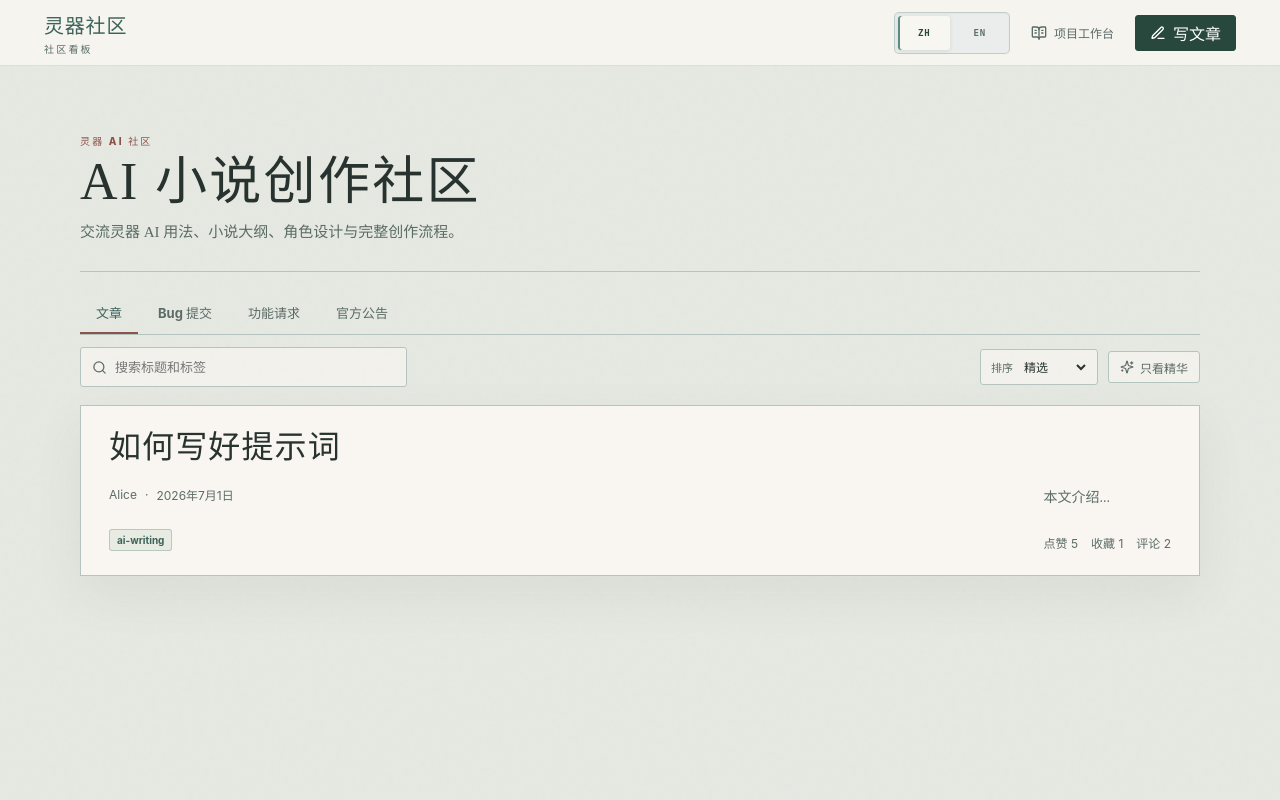
Test: CommunityPage › opens a login reminder when an anonymous user tries to write
Step 1. Click the button "写文章" → x=1186, y=32, box [1135, 14, 1236, 50]
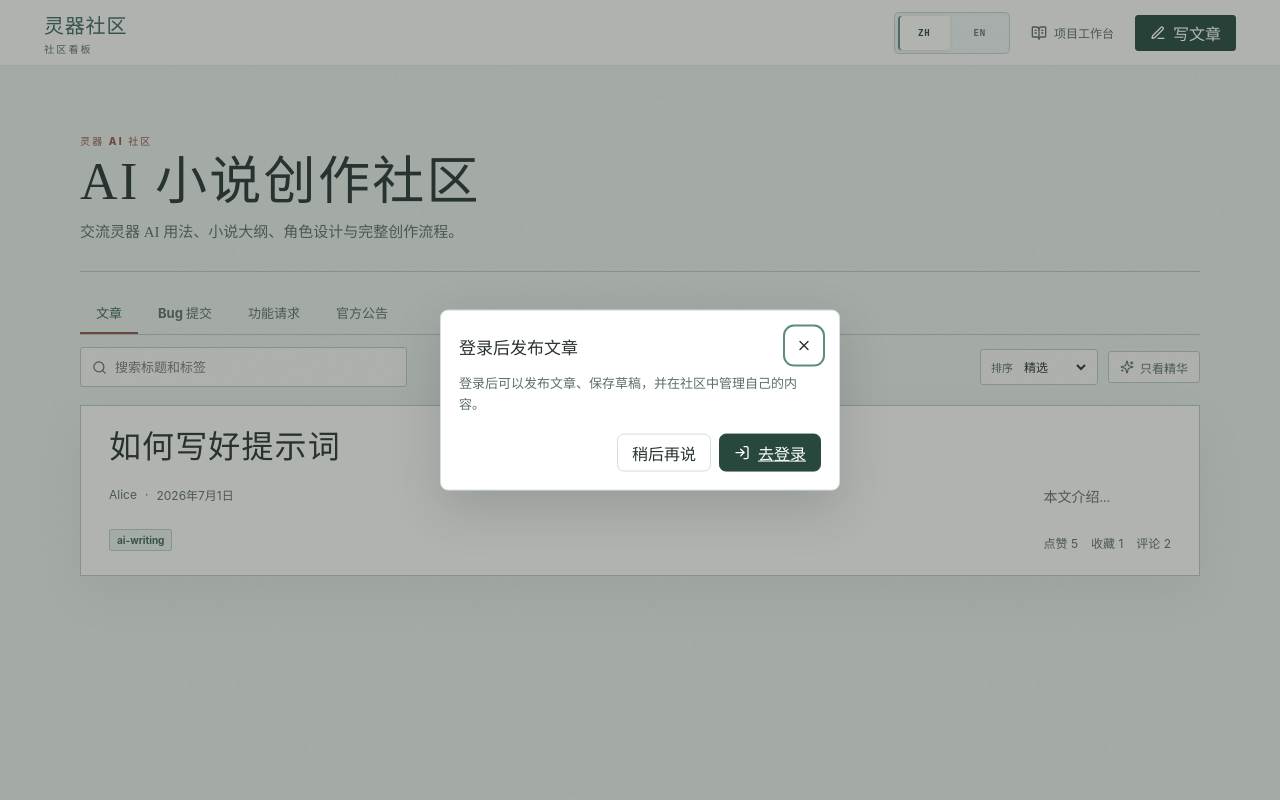
Expected: the text "登录后可以发布文章、保存草稿，并在社区中管理自己的内容。" is shown, [459, 373, 821, 416]
